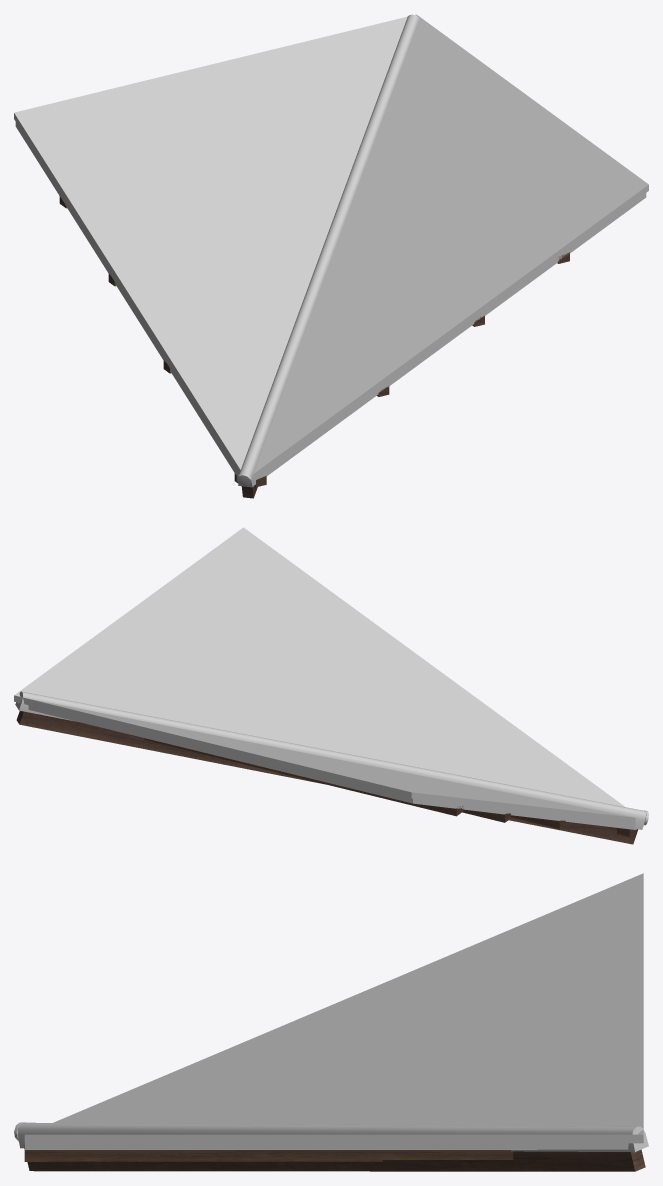
The model's file is kawara_2x4t_a1corner_cav.fbx.
The picture shows the model from 3 angles, top to bottom: view 1: azimuth 30°, elevation 25°; view 2: azimuth 150°, elevation 25°; view 3: azimuth 270°, elevation 25°; orthographic projection. The views are drawn at different scales.
Visible parts, largest first — view 1: kawara_2x4t_a1corner_cav; view 2: kawara_2x4t_a1corner_cav; view 3: kawara_2x4t_a1corner_cav.
Boxes of the visible parts, x1=… form: kawara_2x4t_a1corner_cav: x1=14, y1=14, x2=648, y2=498; kawara_2x4t_a1corner_cav: x1=14, y1=527, x2=648, y2=844; kawara_2x4t_a1corner_cav: x1=14, y1=873, x2=648, y2=1171.
Size of the model in its own units: 500 by 257 by 500.
